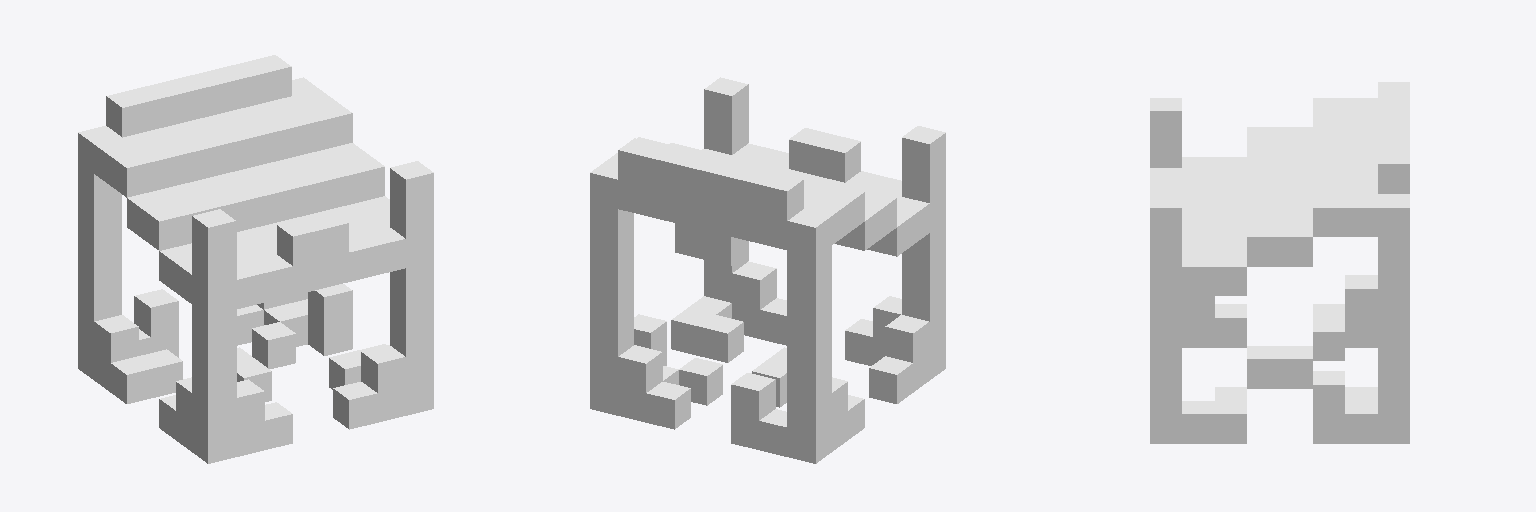
File: mine_01.obj
The picture shows the model from 3 angles: view 1: azimuth 30°, elevation 25°; view 2: azimuth 150°, elevation 25°; view 3: azimuth 270°, elevation 25°; orthographic projection.
Visible parts, largest first — view 1: object 1; view 2: object 1; view 3: object 1.
Part boxes in pixels (x1,y1,x2,y2): object 1: (78, 55, 433, 463); object 1: (590, 77, 945, 463); object 1: (1150, 82, 1409, 443).
Size of the model in its own units: 0.8 by 0.9 by 0.8.